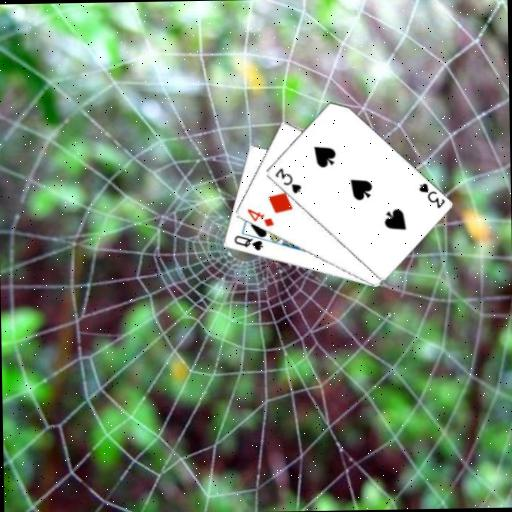3S: (415, 179, 447, 210), (272, 165, 303, 196)
4D: (244, 205, 276, 229)
QS: (231, 232, 265, 253)
